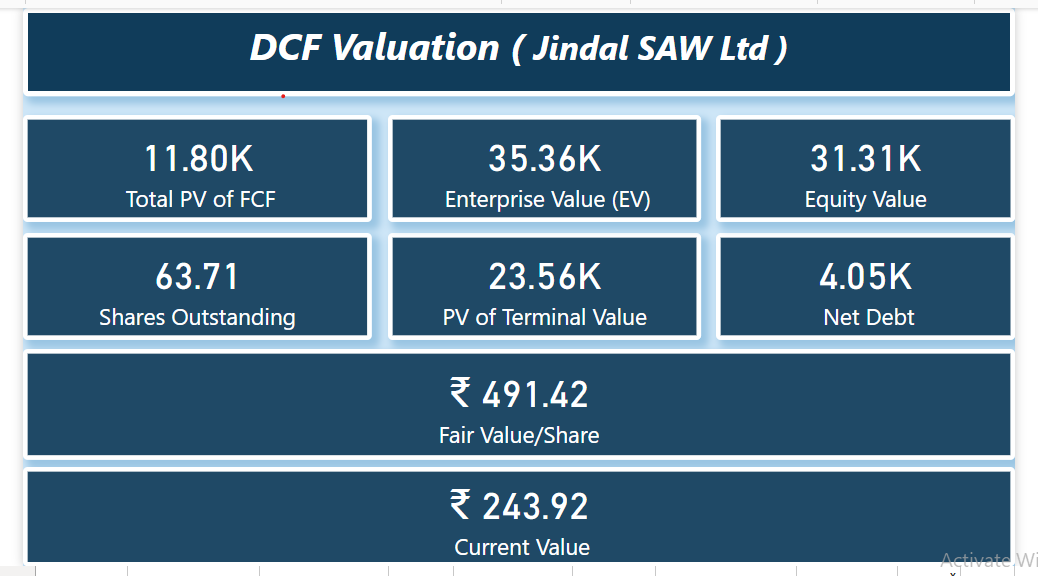

Layout of this report page (visuals, bound fields, positions):
{"tool":"powerbi","page":{"name":"DFC","canvas":[1280,720],"ordinal":10},"visuals":[{"type":"textbox","box":[0,0,1280,114.3],"z":0},{"type":"card","fields":{"Values":["Sum(DCF new.PV of Terminal Value)"]},"box":[471,290.3,403.9,138.1],"z":1},{"type":"card","fields":{"Values":["Sum(DCF new.Total PV of FCF)"]},"box":[0,138.1,450.3,138.1],"z":2},{"type":"card","fields":{"Values":["Sum(DCF new.Enterprise Value (EV))"]},"box":[471,138.1,403.9,138.1],"z":3},{"type":"card","fields":{"Values":["Sum(DCF new.Less: Net Debt)"]},"box":[894.2,290.3,385.8,138.1],"z":4},{"type":"card","fields":{"Values":["Sum(DCF new.Equity Value)"]},"box":[894.2,138.1,385.8,138.1],"z":5},{"type":"card","fields":{"Values":["Sum(DCF new.Shares Outstanding)"]},"box":[0,290.3,450.3,138.1],"z":6},{"type":"card","fields":{"Values":["Sum(DCF new.Fair Value/Share)"]},"box":[0,440,1280,143.2],"z":7},{"type":"card","fields":{"Values":["Sum(DCF new.Current Value)"]},"box":[0,592.3,1280,127.7],"z":8}]}

Visuals, with their boxes in screenshot pixels (x1, y1, x2, y2), scaled from the page's 1280x720 canvas onto the 1038x576 screenshot:
textbox: 0:0:1037:91
card - Sum(DCF new.PV of Terminal Value): 382:232:709:343
card - Sum(DCF new.Total PV of FCF): 0:110:365:221
card - Sum(DCF new.Enterprise Value (EV)): 382:110:709:221
card - Sum(DCF new.Less: Net Debt): 725:232:1037:343
card - Sum(DCF new.Equity Value): 725:110:1037:221
card - Sum(DCF new.Shares Outstanding): 0:232:365:343
card - Sum(DCF new.Fair Value/Share): 0:352:1037:467
card - Sum(DCF new.Current Value): 0:474:1037:575
